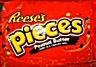grozi_31: (0, 0, 96, 66)
